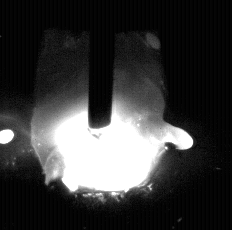arame: (89, 0, 114, 128)
poca: (29, 0, 167, 230)
